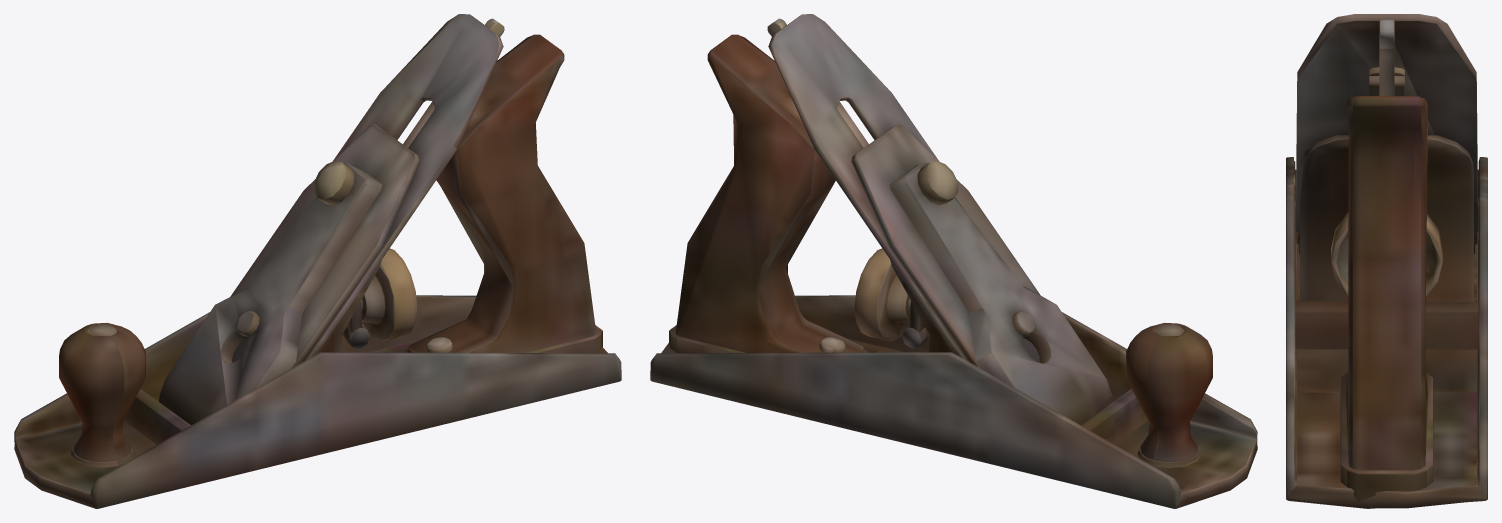
The picture shows the model from 3 angles, left to right: view 1: azimuth 30°, elevation 25°; view 2: azimuth 150°, elevation 25°; view 3: azimuth 270°, elevation 25°; orthographic projection. The views are drawn at different scales.
Visible parts, largest first — view 1: hand_plane_no4; view 2: hand_plane_no4; view 3: hand_plane_no4.
Boxes of the visible parts, <box> form: hand_plane_no4: <box>14,14,621,508</box>; hand_plane_no4: <box>650,14,1257,508</box>; hand_plane_no4: <box>1286,14,1487,508</box>.
Bounding box in the file's own units: 0.3308 × 0.1978 × 0.0843.
Materials: 1 (1 with a texture image).
